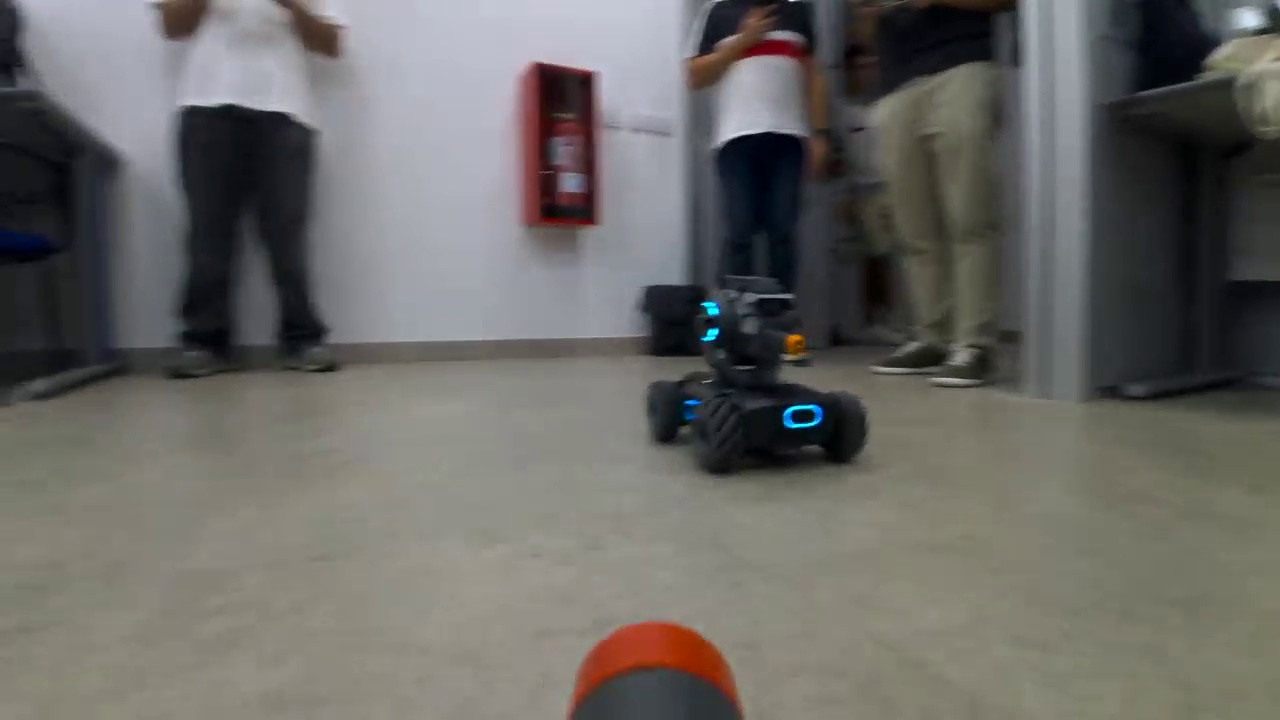robot: (637, 266, 877, 478)
